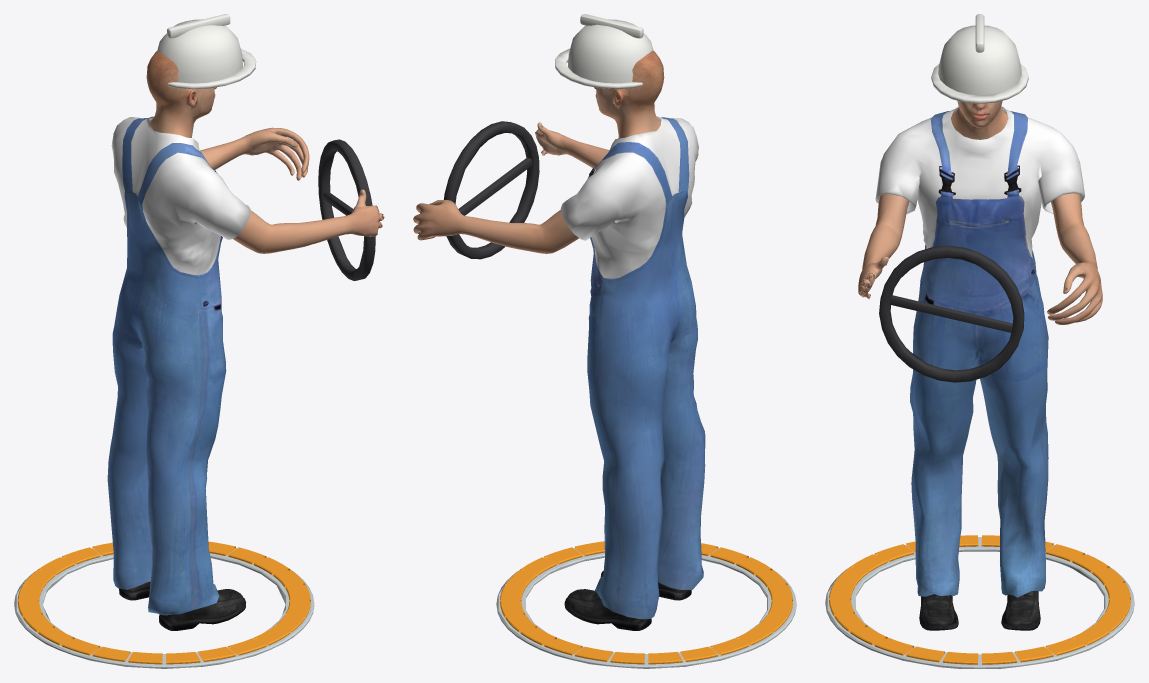
File: MDO-EQP-002_lod1.glb
3 views of the same model, side by side, from view 1: azimuth 30°, elevation 25°; view 2: azimuth 150°, elevation 25°; view 3: azimuth 270°, elevation 25° (orthographic). The views are drawn at different scales.
Visible parts, largest first — view 1: MDO-EQP-002_pessoa_male_worksuit01, MDO-EQP-002_pessoa, MDO-EQP-002_capacete, MDO-EQP-002_anel_fundo, MDO-EQP-002_ferD_volante, MDO-EQP-002_pessoa_shoes04, MDO-EQP-002_capacete_aba, MDO-EQP-002_capacete_friso; view 2: MDO-EQP-002_pessoa_male_worksuit01, MDO-EQP-002_pessoa, MDO-EQP-002_capacete, MDO-EQP-002_ferD_volante, MDO-EQP-002_anel_fundo, MDO-EQP-002_pessoa_shoes04, MDO-EQP-002_ferD_raio, MDO-EQP-002_capacete_aba, MDO-EQP-002_capacete_friso; view 3: MDO-EQP-002_pessoa_male_worksuit01, MDO-EQP-002_pessoa, MDO-EQP-002_ferD_volante, MDO-EQP-002_capacete, MDO-EQP-002_anel_fundo, MDO-EQP-002_pessoa_shoes04, MDO-EQP-002_ferD_raio, MDO-EQP-002_capacete_aba.
Boxes of the visible parts, left/top/right/bottom form: MDO-EQP-002_pessoa_male_worksuit01: left=107, top=116, right=250, bottom=615; MDO-EQP-002_pessoa: left=146, top=50, right=384, bottom=253; MDO-EQP-002_capacete: left=157, top=19, right=242, bottom=83; MDO-EQP-002_anel_fundo: left=14, top=548, right=314, bottom=668; MDO-EQP-002_ferD_volante: left=318, top=139, right=375, bottom=280; MDO-EQP-002_pessoa_shoes04: left=119, top=581, right=245, bottom=630; MDO-EQP-002_capacete_aba: left=168, top=48, right=255, bottom=89; MDO-EQP-002_capacete_friso: left=167, top=14, right=230, bottom=38; MDO-EQP-002_pessoa_male_worksuit01: left=560, top=116, right=705, bottom=619; MDO-EQP-002_pessoa: left=413, top=50, right=664, bottom=253; MDO-EQP-002_capacete: left=568, top=19, right=653, bottom=83; MDO-EQP-002_ferD_volante: left=444, top=121, right=539, bottom=259; MDO-EQP-002_anel_fundo: left=496, top=548, right=796, bottom=668; MDO-EQP-002_pessoa_shoes04: left=564, top=571, right=691, bottom=630; MDO-EQP-002_ferD_raio: left=458, top=157, right=532, bottom=215; MDO-EQP-002_capacete_aba: left=555, top=48, right=642, bottom=89; MDO-EQP-002_capacete_friso: left=580, top=14, right=643, bottom=38; MDO-EQP-002_pessoa_male_worksuit01: left=875, top=106, right=1084, bottom=597; MDO-EQP-002_pessoa: left=858, top=101, right=1102, bottom=324; MDO-EQP-002_ferD_volante: left=879, top=245, right=1024, bottom=382; MDO-EQP-002_capacete: left=938, top=25, right=1021, bottom=95; MDO-EQP-002_anel_fundo: left=825, top=537, right=1134, bottom=668; MDO-EQP-002_pessoa_shoes04: left=919, top=590, right=1040, bottom=630; MDO-EQP-002_ferD_raio: left=890, top=295, right=1012, bottom=332; MDO-EQP-002_capacete_aba: left=931, top=63, right=1028, bottom=103.
Bounding box in the file's own units: 1.02 × 1.79 × 0.84.
Materials: 9 (5 with a texture image).
